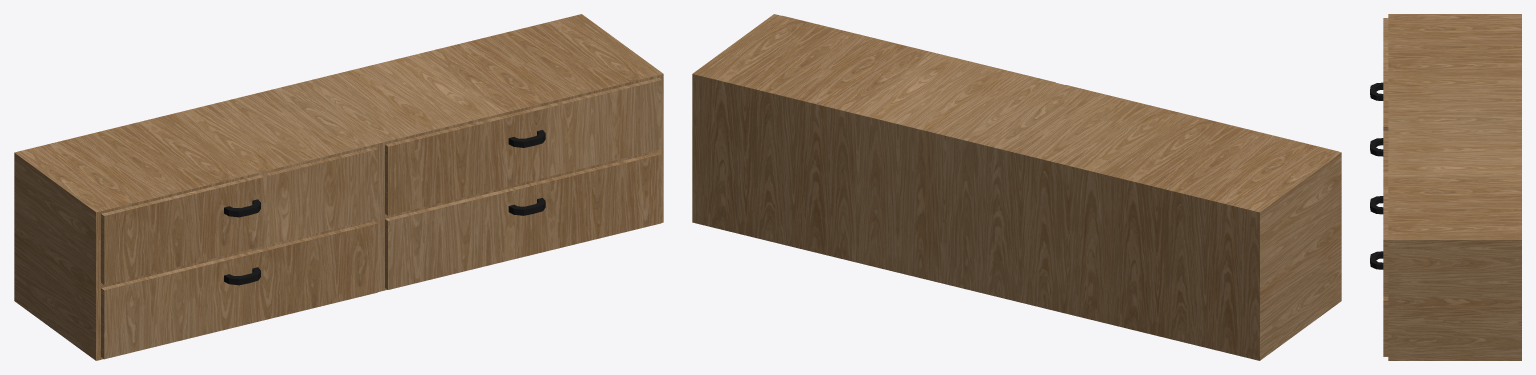
File: Kärpänen_PitkäLaatikko.fbx
3 renders of one model, left to right at view 1: azimuth 30°, elevation 25°; view 2: azimuth 150°, elevation 25°; view 3: azimuth 270°, elevation 25°, orthographic. The views are drawn at different scales.
Visible parts, largest first — view 1: Cube.001; view 2: Cube.001; view 3: Cube.001.
Part boxes in pixels (<box>): Cube.001: <box>14,14,663,360</box>; Cube.001: <box>692,14,1341,360</box>; Cube.001: <box>1370,14,1521,360</box>.
Size of the model in its own units: 4799 by 1200 by 1363.
Materials: 2 (1 with a texture image).
